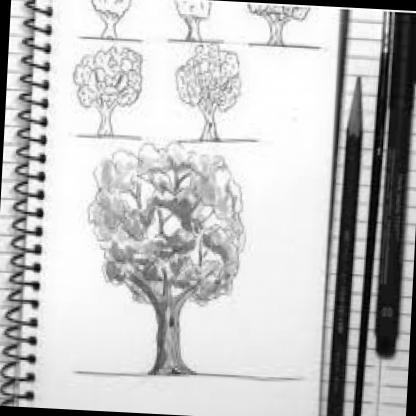crown_cloud: (84, 138, 250, 315)
root_none: (145, 358, 202, 390)
trunk_bark: (150, 315, 184, 355)
